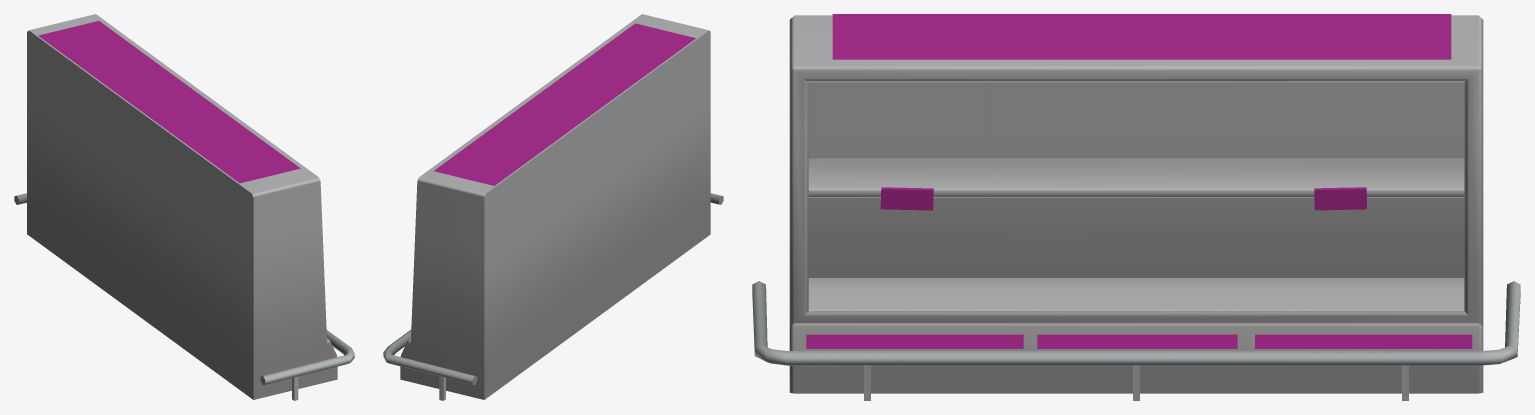
The model's file is Stella_02.fbx.
The picture shows the model from 3 angles, left to right: view 1: azimuth 30°, elevation 25°; view 2: azimuth 150°, elevation 25°; view 3: azimuth 270°, elevation 25°; orthographic projection. The views are drawn at different scales.
Parts seen in each view (by area): view 1: Stella_02, marks_stella_02; view 2: Stella_02, marks_stella_02; view 3: Stella_02, marks_stella_02.
Boxes of the visible parts, x1,y1,x2,y2 form: Stella_02: (14,14,354,400); marks_stella_02: (38,21,300,183); Stella_02: (383,14,723,400); marks_stella_02: (434,23,695,185); Stella_02: (752,15,1520,400); marks_stella_02: (806,14,1472,348).
Size of the model in its own units: 99.77 by 443 by 201.
